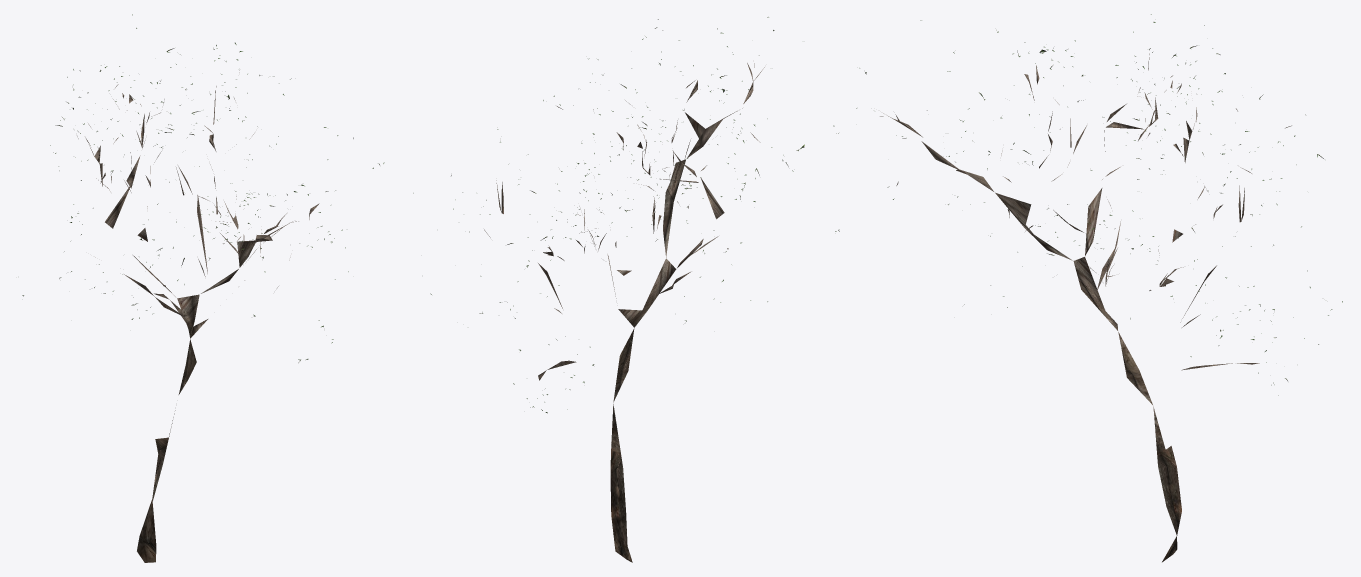
The model's file is tree_small_02_far.glb.
3 views of the same model, side by side, from view 1: azimuth 30°, elevation 25°; view 2: azimuth 150°, elevation 25°; view 3: azimuth 270°, elevation 25° (orthographic). The views are drawn at different scales.
Parts seen in each view (by area): view 1: tree_small_02_LOD0; view 2: tree_small_02_LOD0; view 3: tree_small_02_LOD0.
Part boxes in pixels (bbox=[...]): tree_small_02_LOD0: bbox=[22, 14, 384, 562]; tree_small_02_LOD0: bbox=[413, 17, 804, 562]; tree_small_02_LOD0: bbox=[833, 14, 1342, 562].
Bounding box in the file's own units: 2.85 × 4.5 × 3.9.
3 materials, 3 textured.
